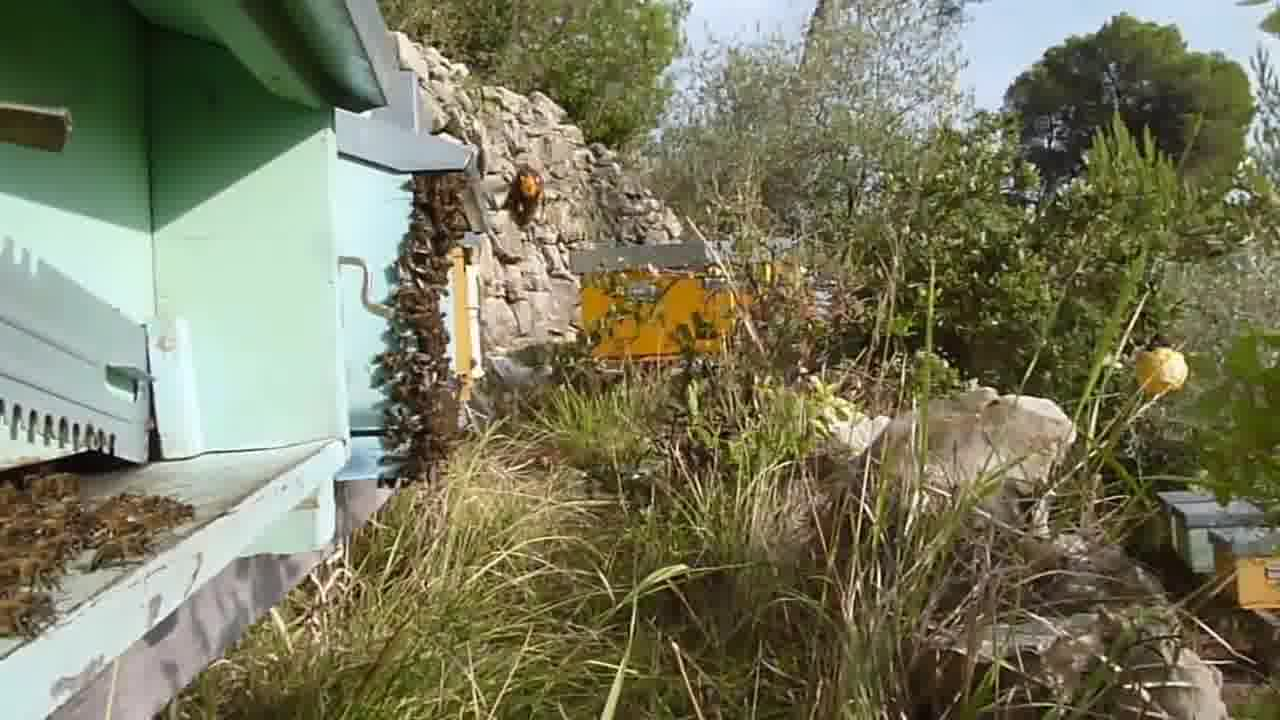bee: (2, 474, 93, 628), (371, 356, 474, 480), (399, 170, 481, 260), (378, 259, 456, 344), (98, 488, 181, 565)
hornet: (495, 166, 549, 233)
